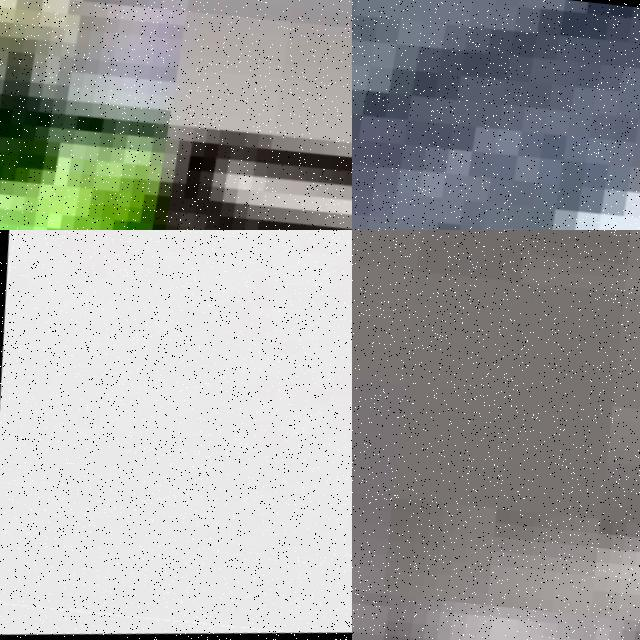0: (0, 0, 352, 230)
drone: (0, 230, 352, 640), (352, 0, 640, 230)
